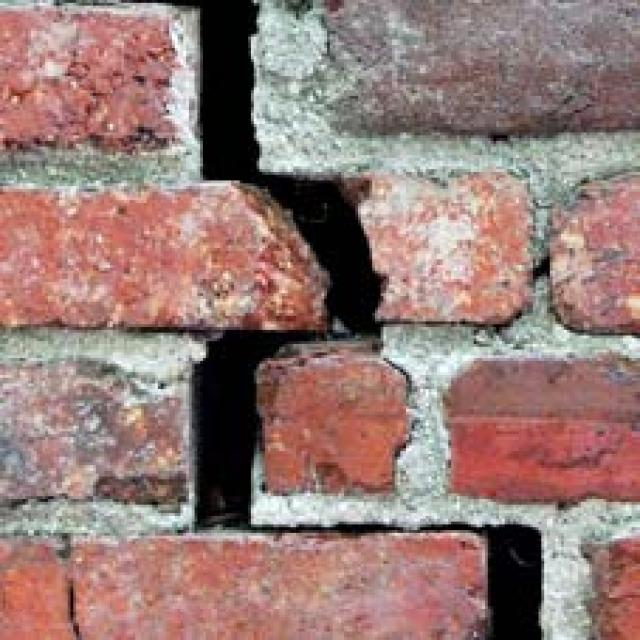Crack: (131, 0, 581, 640)
